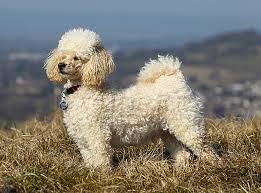Poodle: (37, 15, 241, 185)
